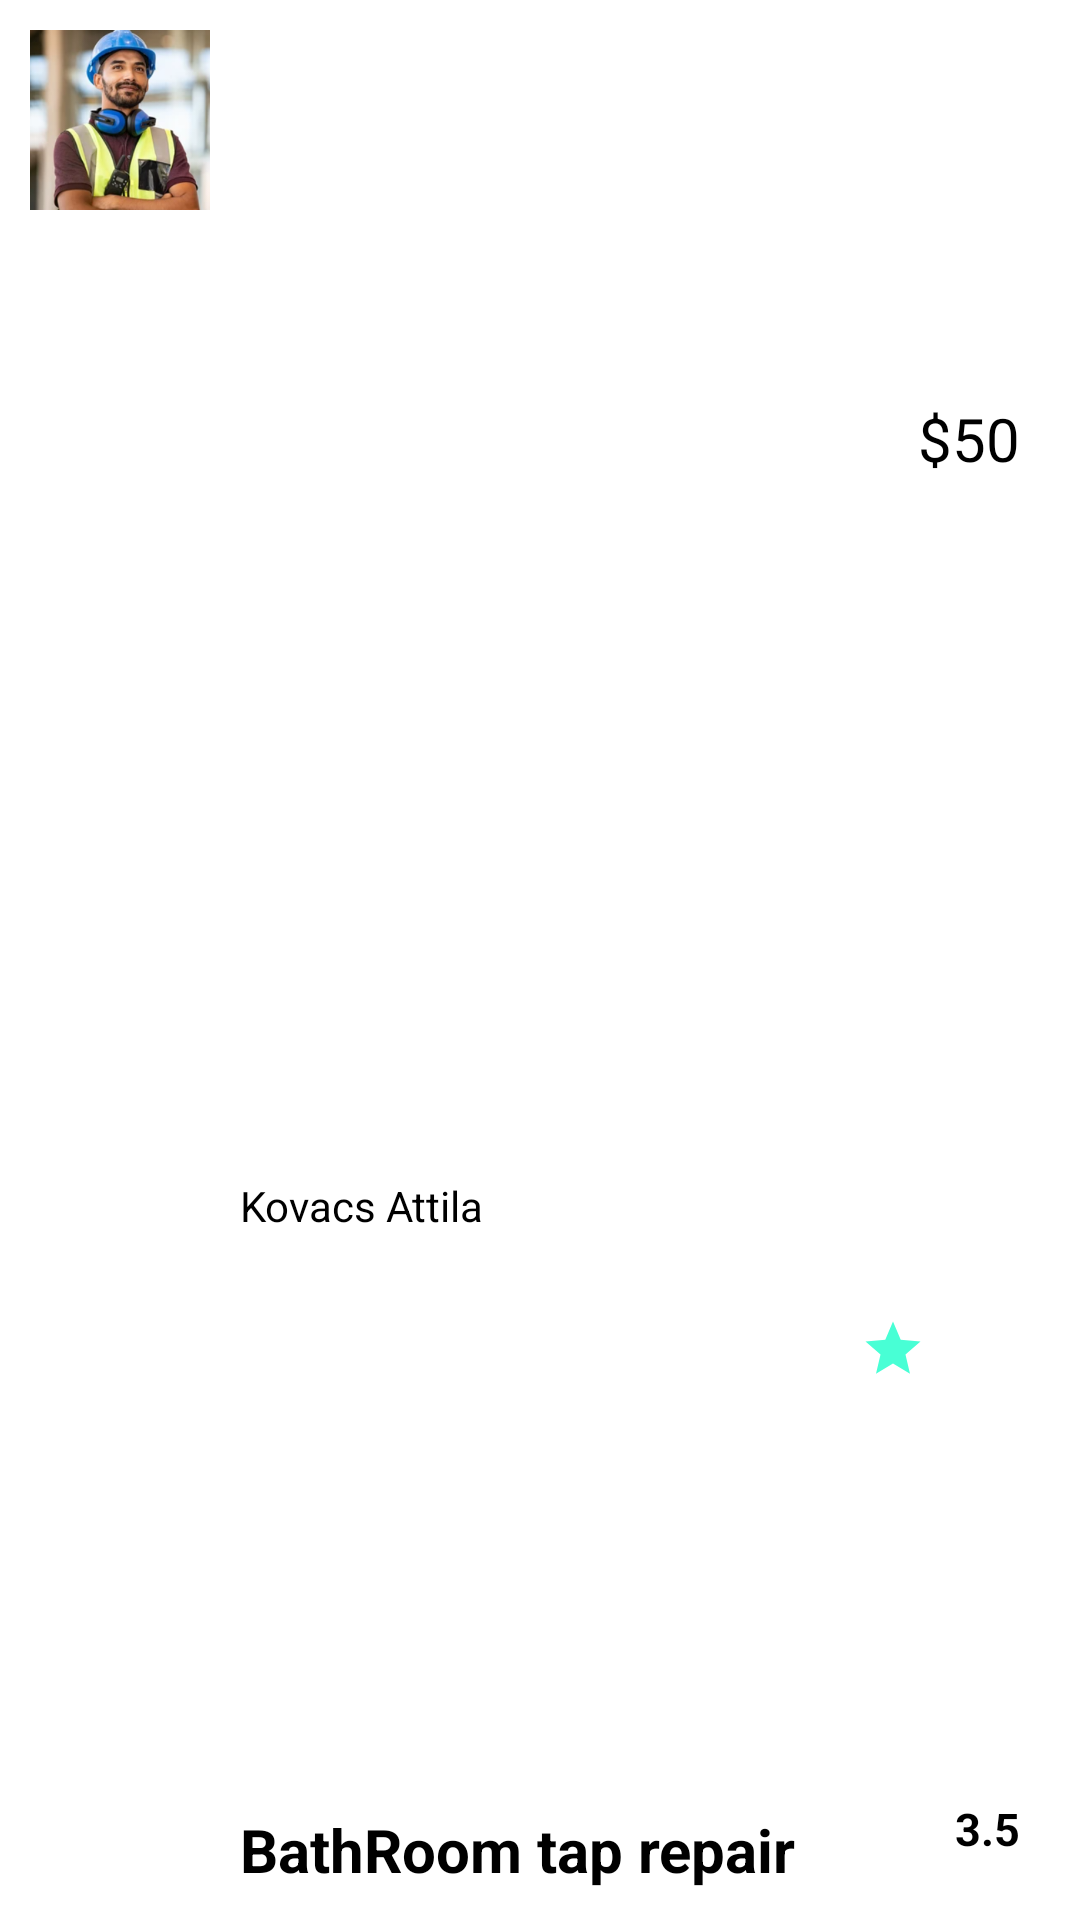

Screen size 1080*1920. Icon name, then its center in pixels as (x,y):
star: (893,1348)
worker: (120,120)
